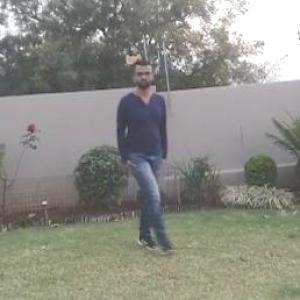follow: (107, 61, 171, 247)
